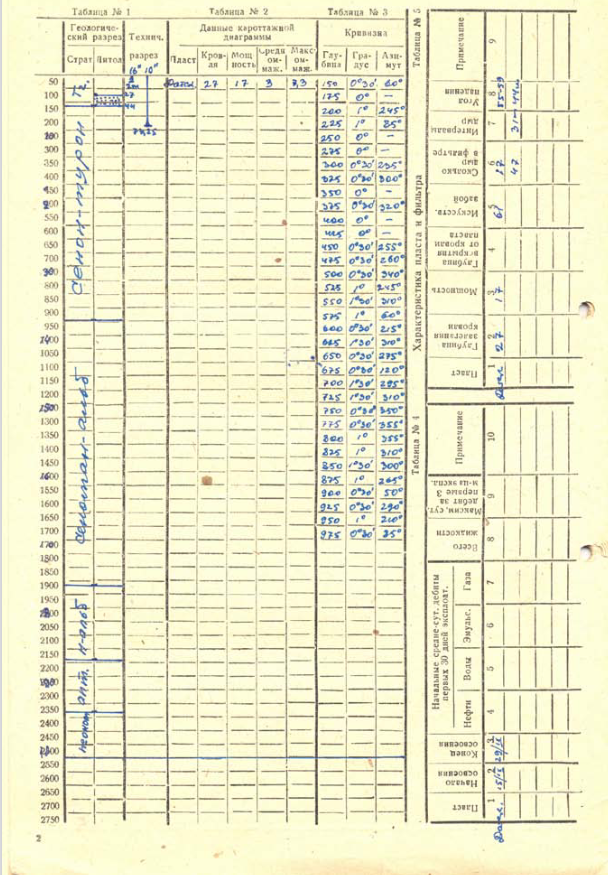Bordered: (318, 18, 412, 546)
